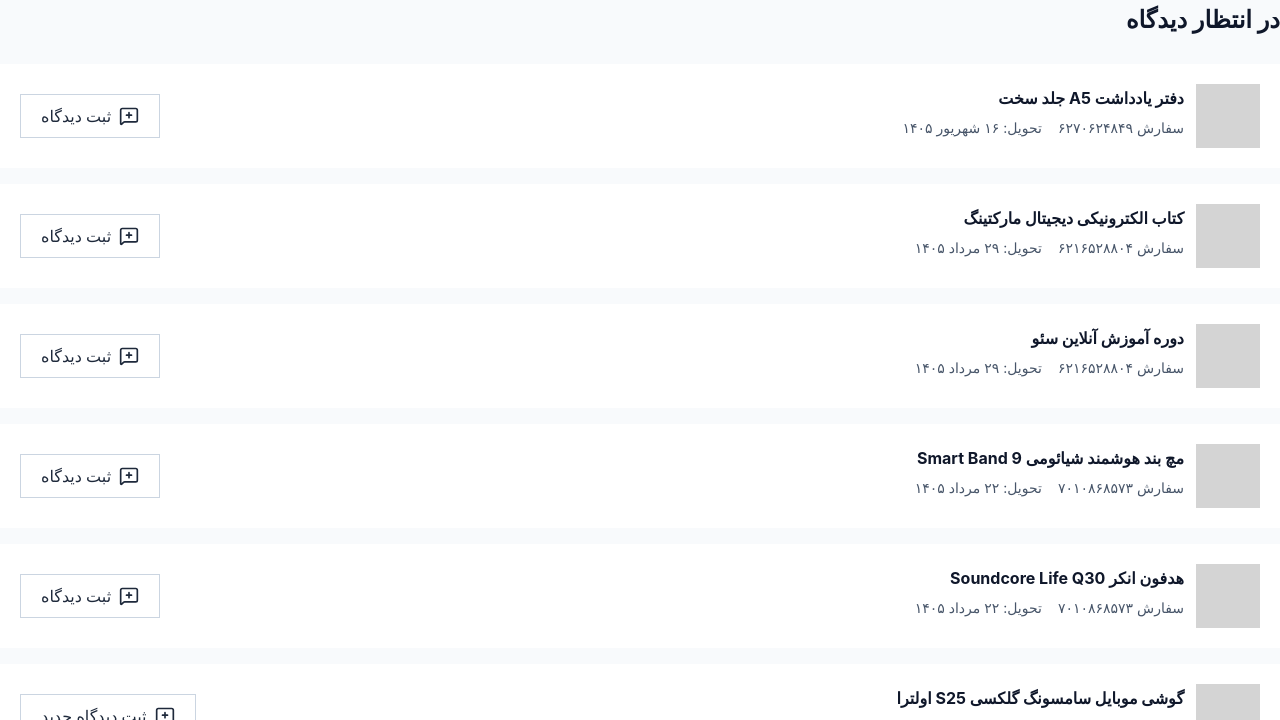
Test: a review sent › 409 already reviewed: the list read again, with why, and the form closed
The width and height of the screenshot is (1280, 720).
Click the button "ثبت دیدگاه" in the row of "۱۶ شهریور ۱۴۰۵" at (90,116), box [20,94,160,138]
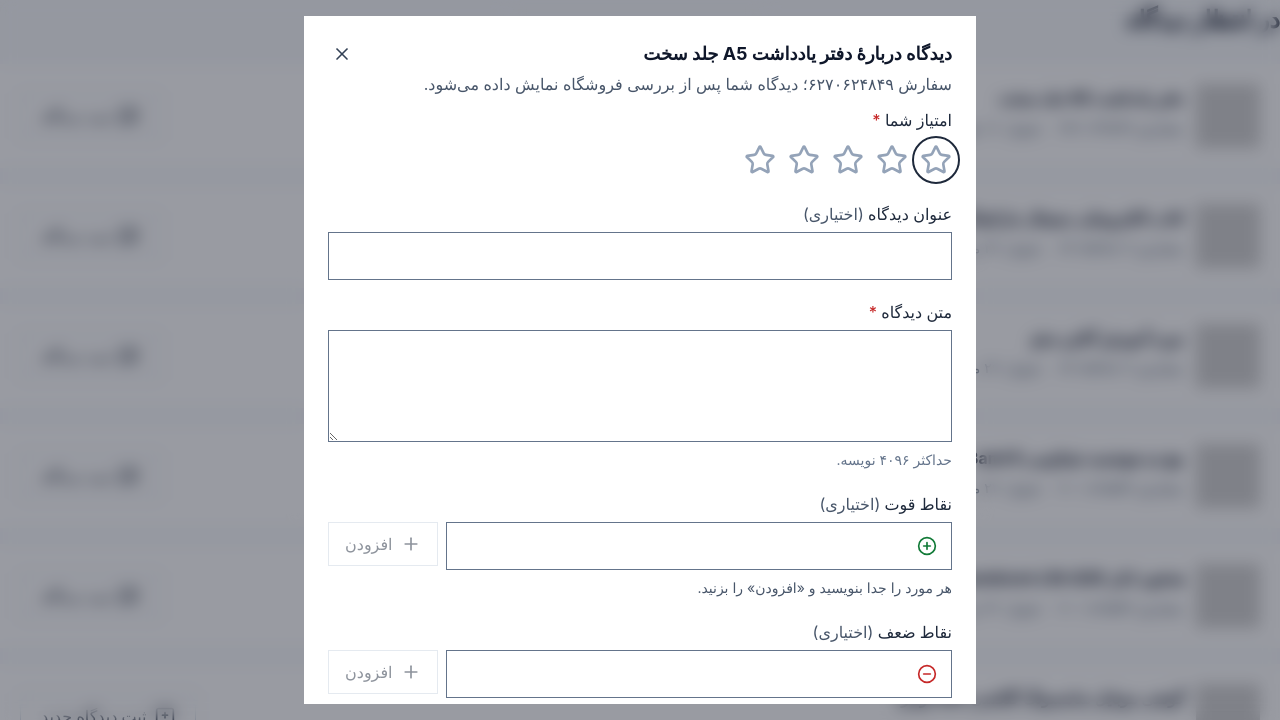
Click the radio button named "۵ ستاره" at (760,160), box [744,144,776,176]
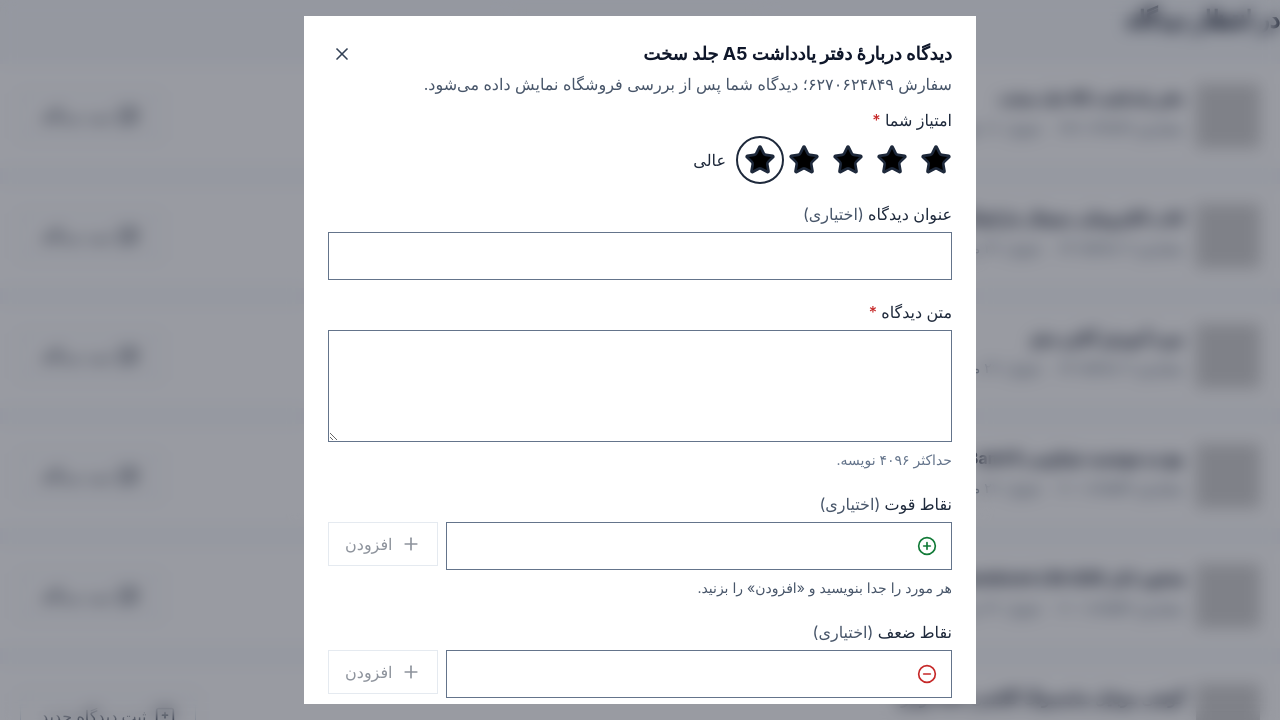
Type "کاغذ خوبی دارد" into the text box labelled "متن دیدگاه *" at (640,386), box [328,330,952,442]
(page scrolled)
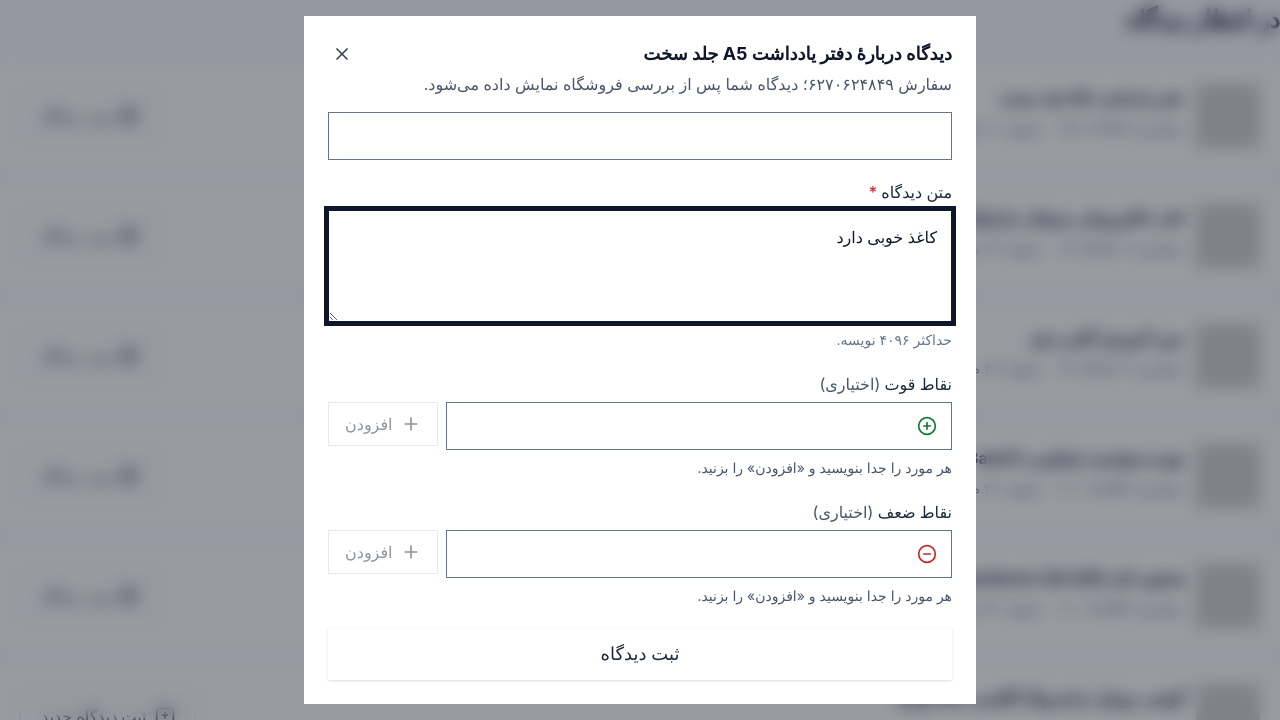
Click the button "ثبت دیدگاه" at (640,654), box [328,628,952,680]
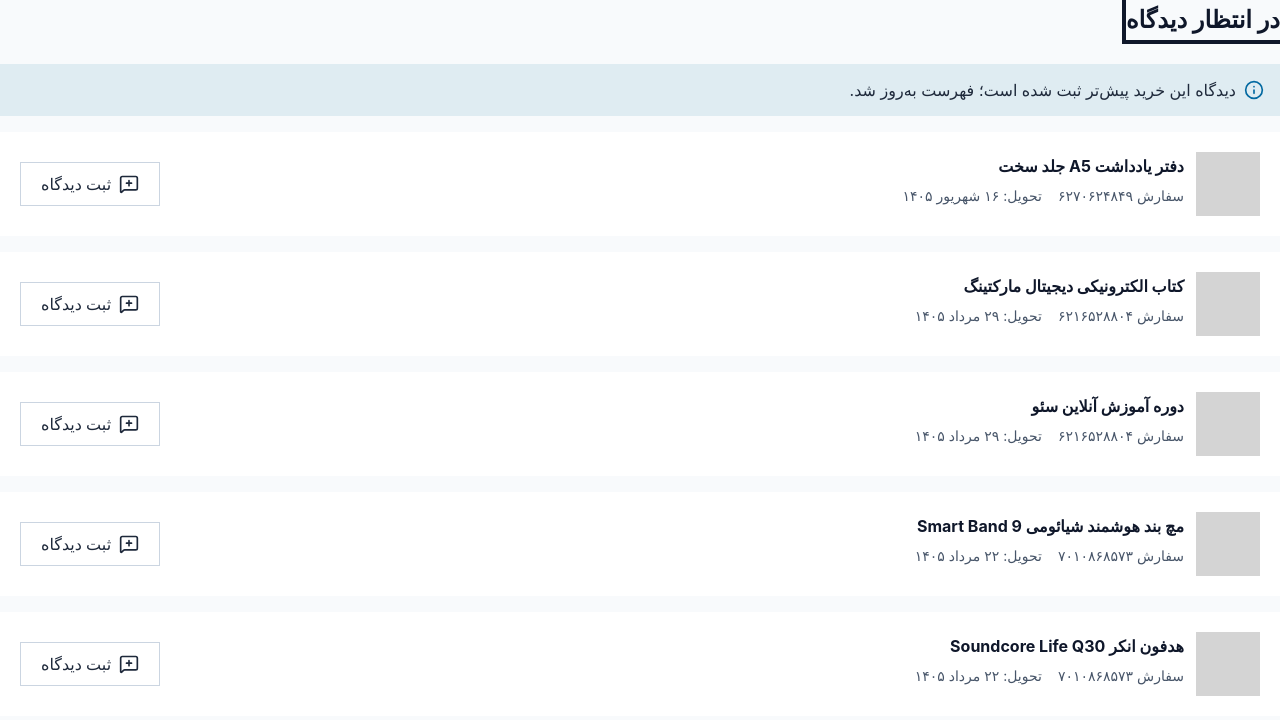
Expected: the text "دیدگاه این خرید پیش‌تر ثبت شده است؛ فهرست به‌روز شد." is shown, [0,64,1279,116]
Expected: the dialog is gone
